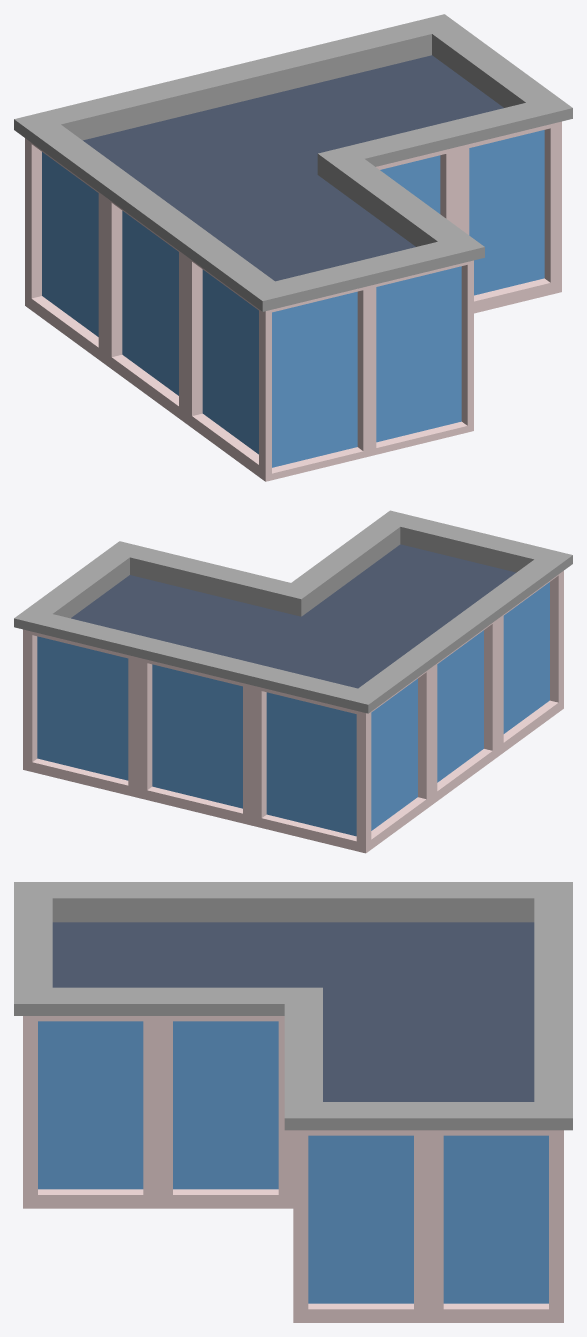
Rendered from building_L_2_r.glb.
The picture shows the model from 3 angles, top to bottom: view 1: azimuth 30°, elevation 25°; view 2: azimuth 150°, elevation 25°; view 3: azimuth 270°, elevation 25°; orthographic projection. The views are drawn at different scales.
Parts seen in each view (by area): view 1: Cube.001; view 2: Cube.001; view 3: Cube.001.
Boxes of the visible parts, x1,y1,x2,y2 form: Cube.001: (14, 14, 572, 481); Cube.001: (14, 510, 572, 853); Cube.001: (14, 882, 572, 1322).
Size of the model in its own units: 3.87 by 1.59 by 3.87.
